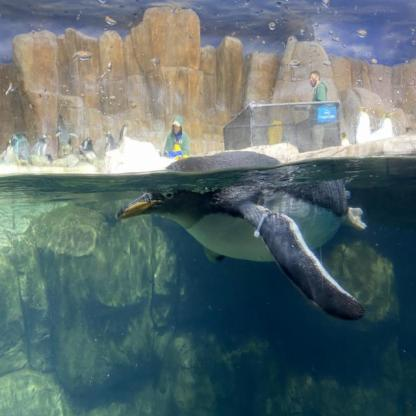penguin: (116, 150, 368, 322), (55, 115, 76, 150), (12, 133, 33, 165), (356, 105, 371, 144), (32, 133, 51, 157), (379, 112, 395, 138), (102, 130, 116, 153), (80, 136, 95, 157), (1, 137, 13, 163), (120, 122, 130, 141), (340, 131, 350, 147), (404, 126, 414, 139)
